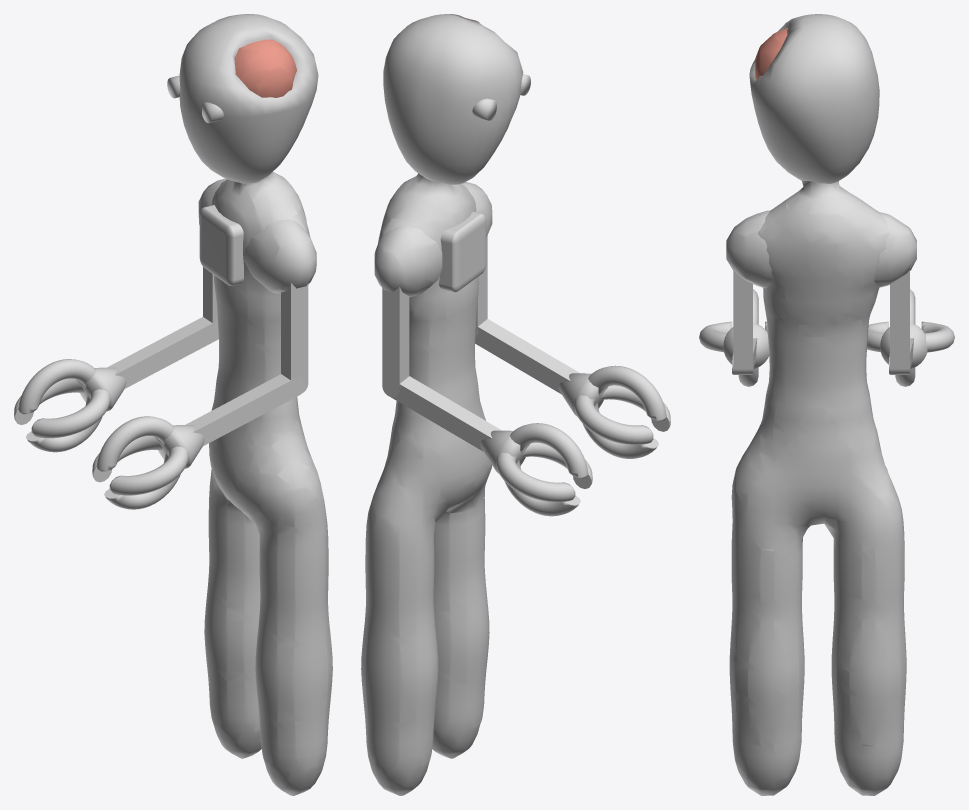
Rendered from cyberman.fbx.
The picture shows the model from 3 angles, left to right: view 1: azimuth 30°, elevation 25°; view 2: azimuth 150°, elevation 25°; view 3: azimuth 270°, elevation 25°; orthographic projection.
Visible parts, largest first — view 1: Sphere, Torus, Torus.001, Cube.002, Cube.004, Mball.001, Cube.003, Cube.001, Cylinder; view 2: Sphere, Torus, Torus.001, Cube.004, Cube.002, Cube.001, Cube.003, Cylinder; view 3: Sphere, Torus, Torus.001, Cube.001, Cube.003, Mball.001.
Part boxes in pixels (<box>): Sphere: <box>179,14,332,795</box>; Torus: <box>14,359,126,452</box>; Torus.001: <box>92,416,204,509</box>; Cube.002: <box>185,374,305,445</box>; Cube.004: <box>107,317,218,388</box>; Mball.001: <box>234,39,296,97</box>; Cube.003: <box>281,283,308,392</box>; Cube.001: <box>203,267,217,322</box>; Cylinder: <box>167,75,223,123</box>; Sphere: <box>361,14,523,795</box>; Torus: <box>480,423,592,516</box>; Torus.001: <box>558,365,670,458</box>; Cube.004: <box>391,376,501,451</box>; Cube.002: <box>475,319,579,394</box>; Cube.001: <box>382,286,409,397</box>; Cube.003: <box>475,235,487,338</box>; Cylinder: <box>472,74,530,120</box>; Sphere: <box>726,14,916,795</box>; Torus: <box>867,289,954,386</box>; Torus.001: <box>699,289,769,386</box>; Cube.001: <box>890,270,909,374</box>; Cube.003: <box>733,269,752,374</box>; Mball.001: <box>755,27,787,79</box>.
Bounding box in the file's own units: 281 × 842 × 257.
